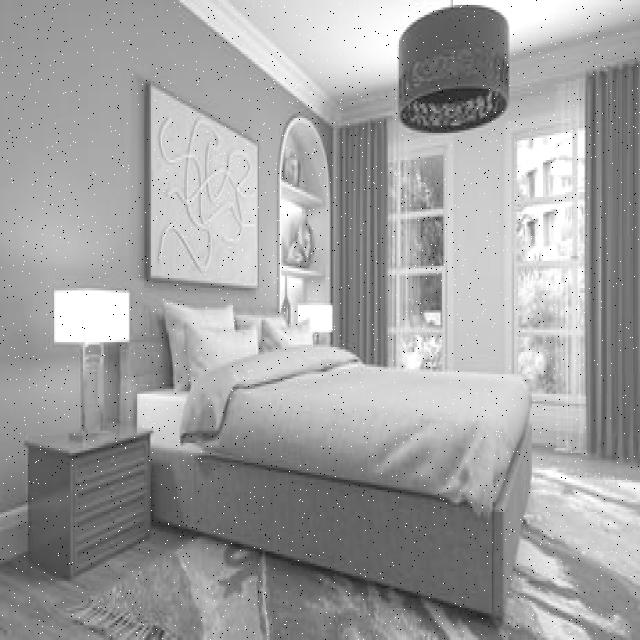bed: (144, 279, 534, 609)
